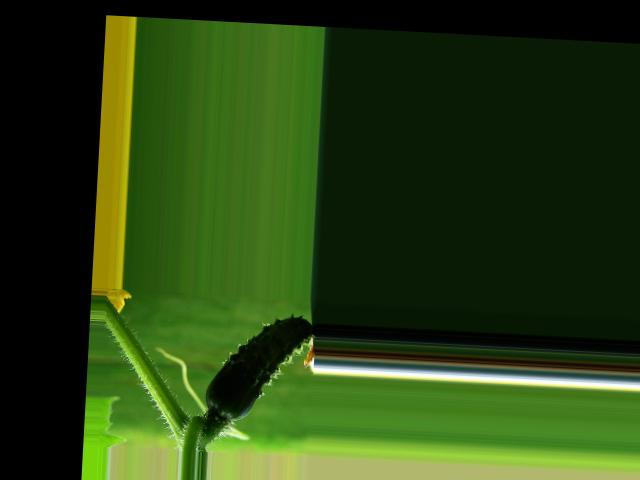cucumber: (202, 310, 313, 423)
